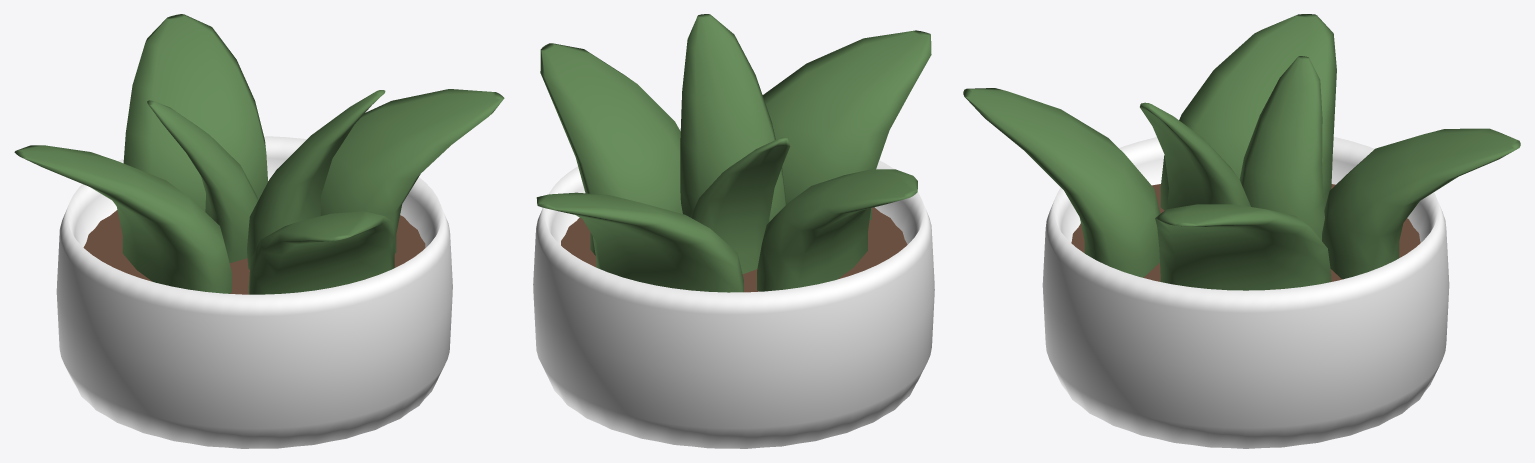
The model's file is plant.glb.
3 renders of one model, left to right at view 1: azimuth 30°, elevation 25°; view 2: azimuth 150°, elevation 25°; view 3: azimuth 270°, elevation 25°, orthographic. The views are drawn at different scales.
Visible parts, largest first — view 1: Plant; view 2: Plant; view 3: Plant.
Boxes of the visible parts, x1=… form: Plant: x1=14, y1=14, x2=504, y2=448; Plant: x1=533, y1=14, x2=934, y2=448; Plant: x1=963, y1=14, x2=1520, y2=448.
Size of the model in its own units: 0.0826 by 0.0559 by 0.0916.
